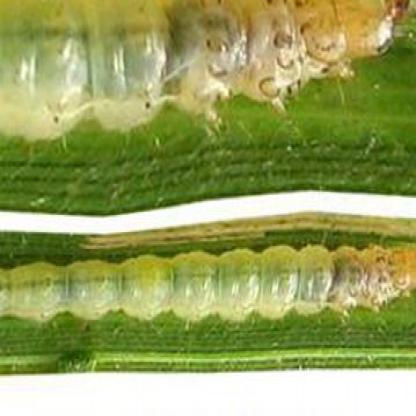leaf-folder: (13, 0, 389, 122), (22, 234, 413, 329)
